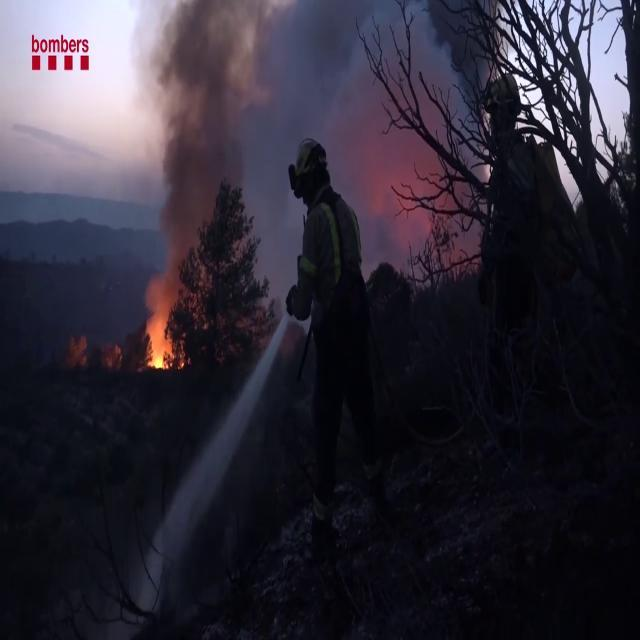Fire: (141, 310, 177, 374)
Smoke: (132, 1, 258, 260)
